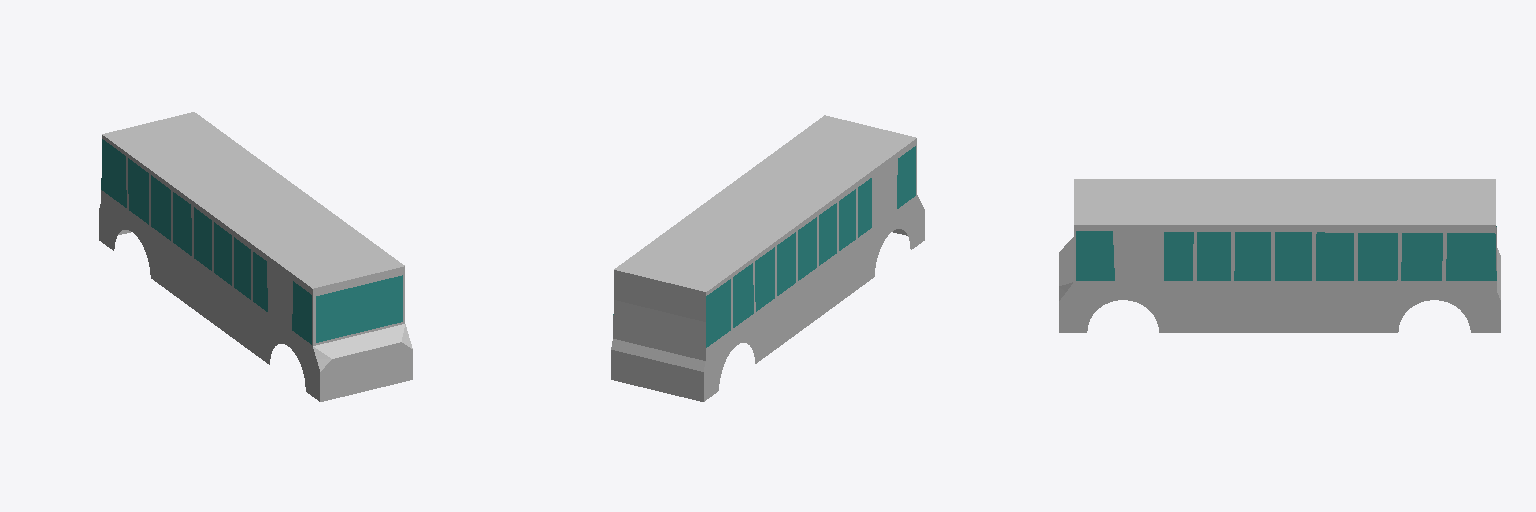
Rendered from Bus.obj.
3 views of the same model, side by side, from view 1: azimuth 30°, elevation 25°; view 2: azimuth 150°, elevation 25°; view 3: azimuth 270°, elevation 25° (orthographic).
Parts seen in each view (by area): view 1: Cube_Cube.001; view 2: Cube_Cube.001; view 3: Cube_Cube.001.
Boxes of the visible parts, x1=… form: Cube_Cube.001: x1=99, y1=112, x2=412, y2=401; Cube_Cube.001: x1=611, y1=115, x2=924, y2=401; Cube_Cube.001: x1=1059, y1=179, x2=1500, y2=332.
Size of the model in its own units: 1.8 by 2.01 by 7.46.